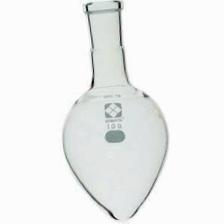Pear shaped flask: (63, 0, 173, 221)
